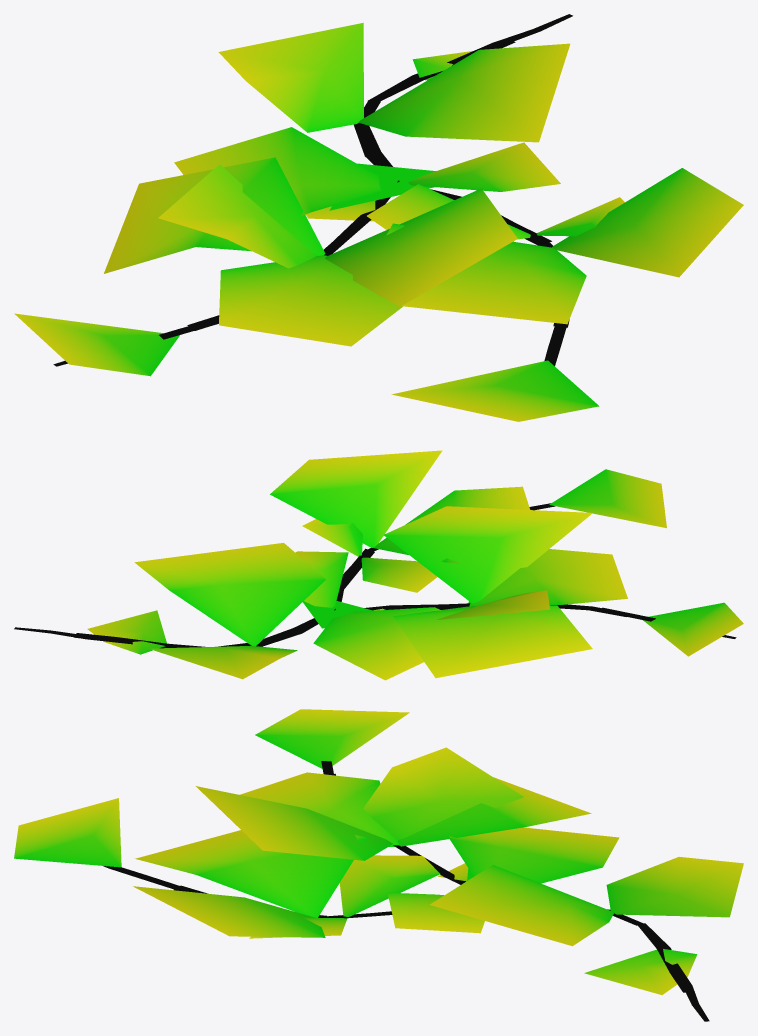
File: Mile-a-minute Vine_LOD1_Var8_sfqns.fbx
3 views of the same model, one above another, from view 1: azimuth 30°, elevation 25°; view 2: azimuth 150°, elevation 25°; view 3: azimuth 270°, elevation 25° (orthographic). The views are drawn at different scales.
Visible parts, largest first — view 1: _421f_Var8_LOD1; view 2: _421f_Var8_LOD1; view 3: _421f_Var8_LOD1.
Boxes of the visible parts, x1,y1,x2,y2 form: _421f_Var8_LOD1: (14,14,743,421); _421f_Var8_LOD1: (14,450,743,680); _421f_Var8_LOD1: (14,709,743,1021).
Size of the model in its own units: 24.16 by 1.86 by 24.44.
